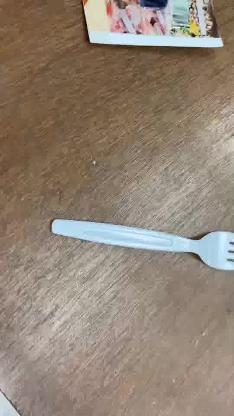Others: (50, 218, 234, 270)
